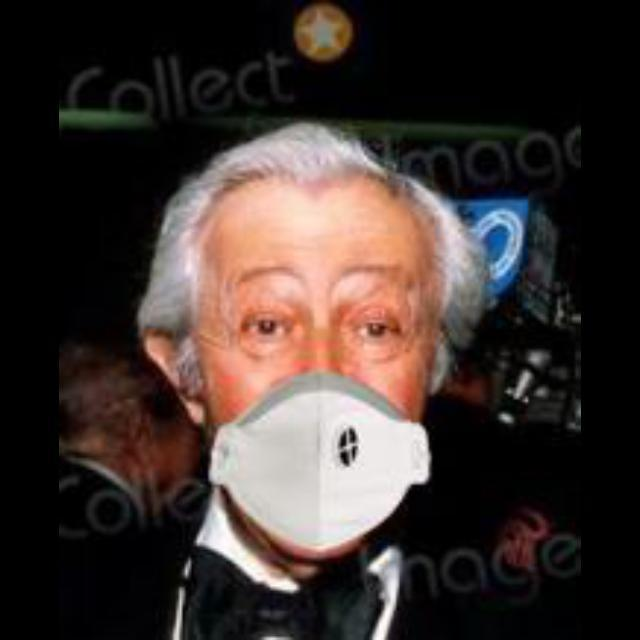suspicion: (158, 82, 486, 580)
